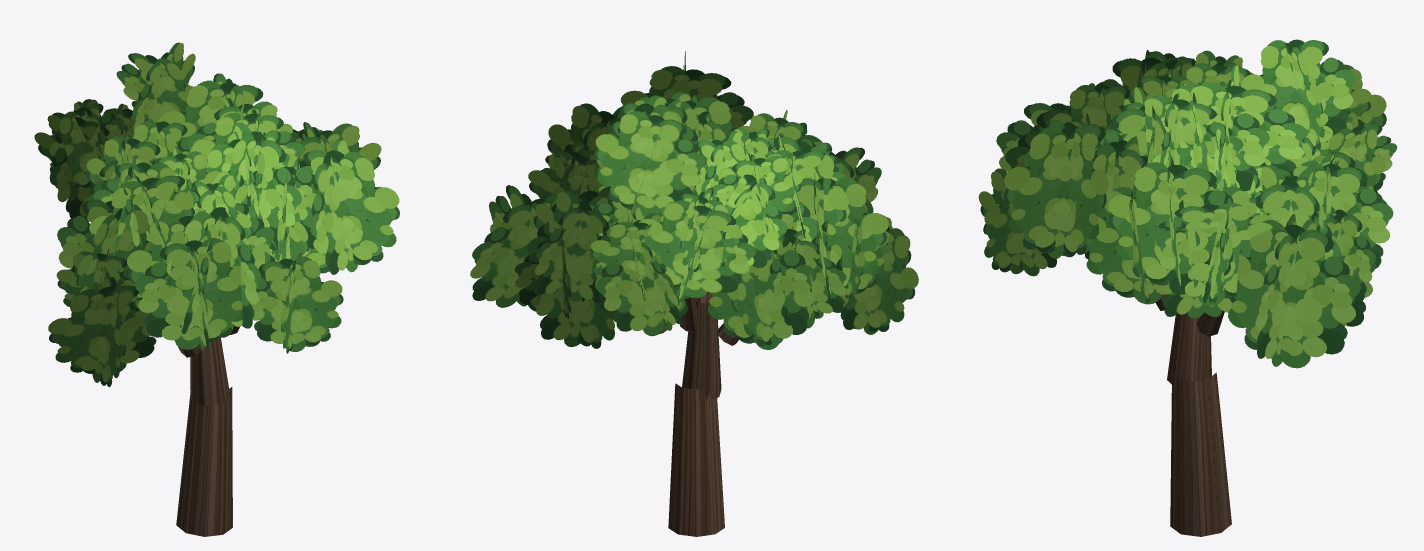
Rendered from anime_tree_green.glb.
3 views of the same model, side by side, from view 1: azimuth 30°, elevation 25°; view 2: azimuth 150°, elevation 25°; view 3: azimuth 270°, elevation 25° (orthographic). The views are drawn at different scales.
Visible parts, largest first — view 1: anime_tree_green; view 2: anime_tree_green; view 3: anime_tree_green.
Part boxes in pixels (x1,y1,x2,y2): anime_tree_green: (34,42,399,536); anime_tree_green: (470,51,918,536); anime_tree_green: (978,39,1397,536).
Size of the model in its own units: 5.79 by 6.34 by 5.09.
2 materials, 2 textured.
